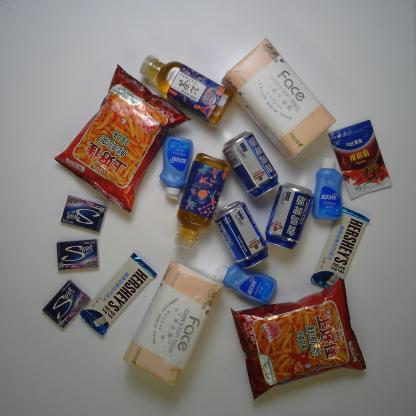Alcohol: (211, 198, 271, 272), (225, 130, 279, 200), (266, 181, 314, 250)
Chocolate: (81, 255, 157, 334), (308, 207, 370, 292)
Drink: (139, 52, 235, 130), (173, 152, 229, 252)
Gum: (41, 279, 91, 330), (59, 197, 106, 232), (55, 239, 98, 270)
Personal Hygiene: (212, 263, 278, 307), (158, 136, 196, 201), (312, 156, 346, 221)
Puffed Food: (53, 64, 190, 214), (231, 277, 367, 401)
Seasoner: (326, 118, 393, 202)
Tissue: (218, 37, 336, 159), (121, 258, 226, 388)
